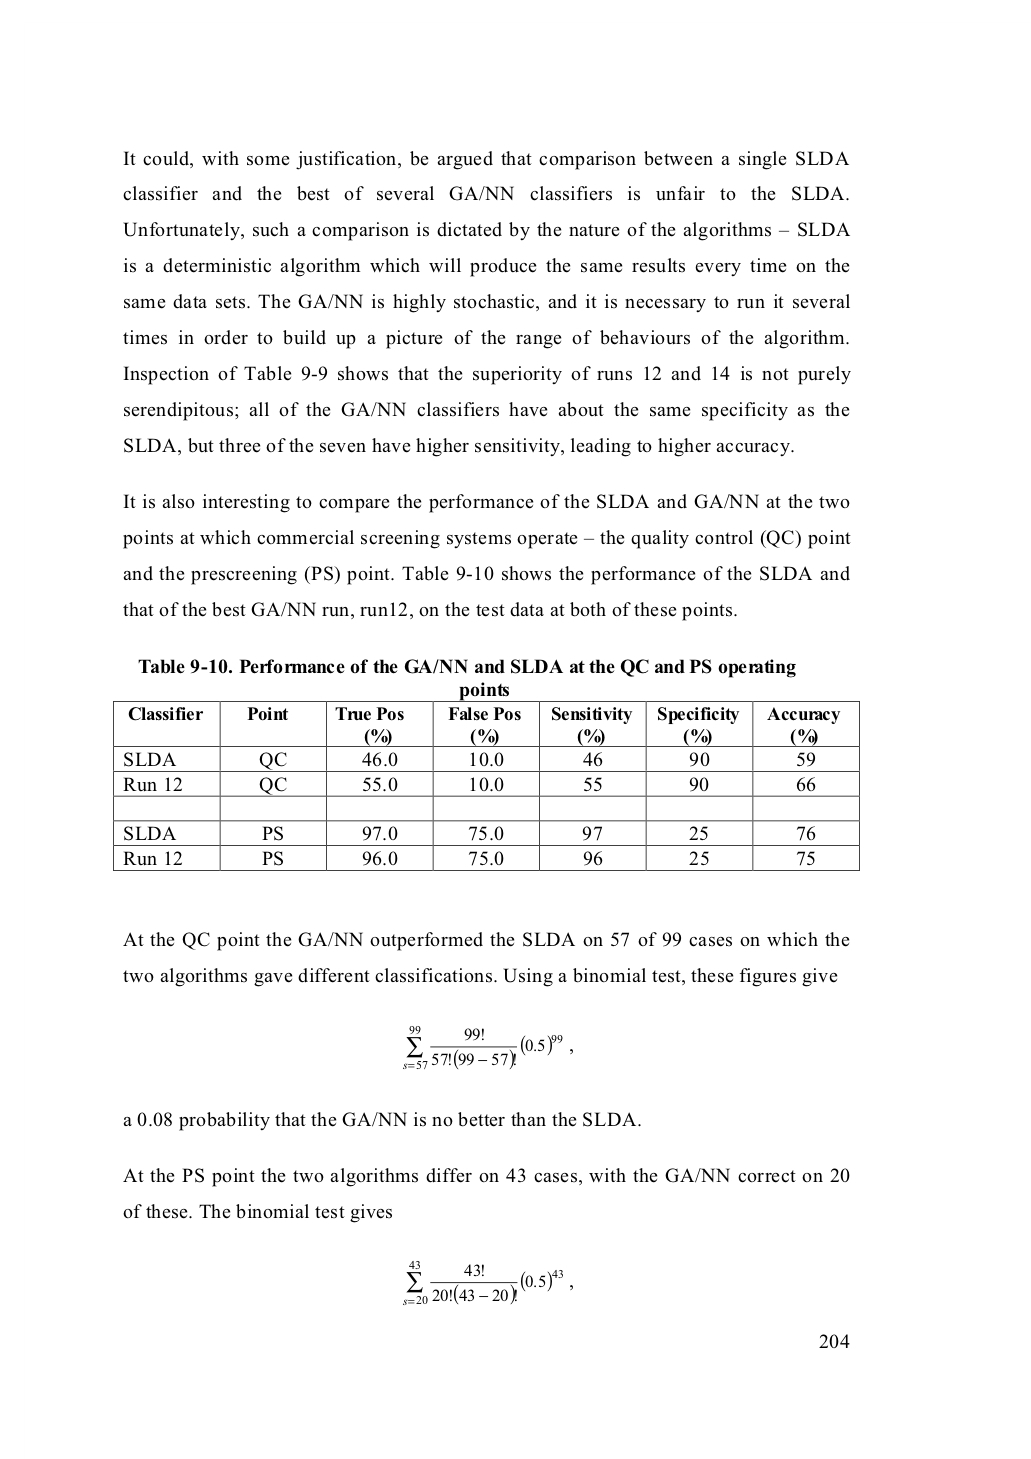Table: (113, 682, 859, 871)
formula: (403, 1260, 572, 1306), (403, 1025, 572, 1070)
